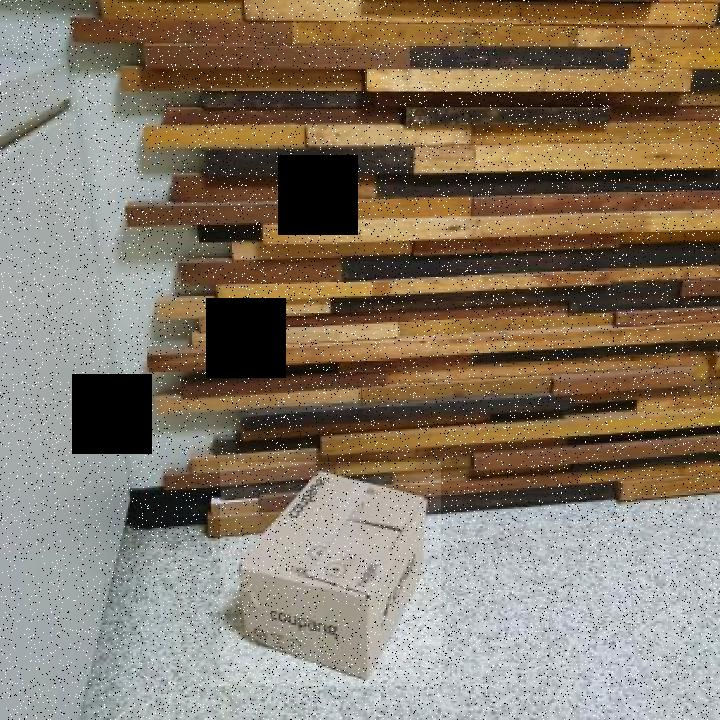box: (220, 462, 441, 686)
